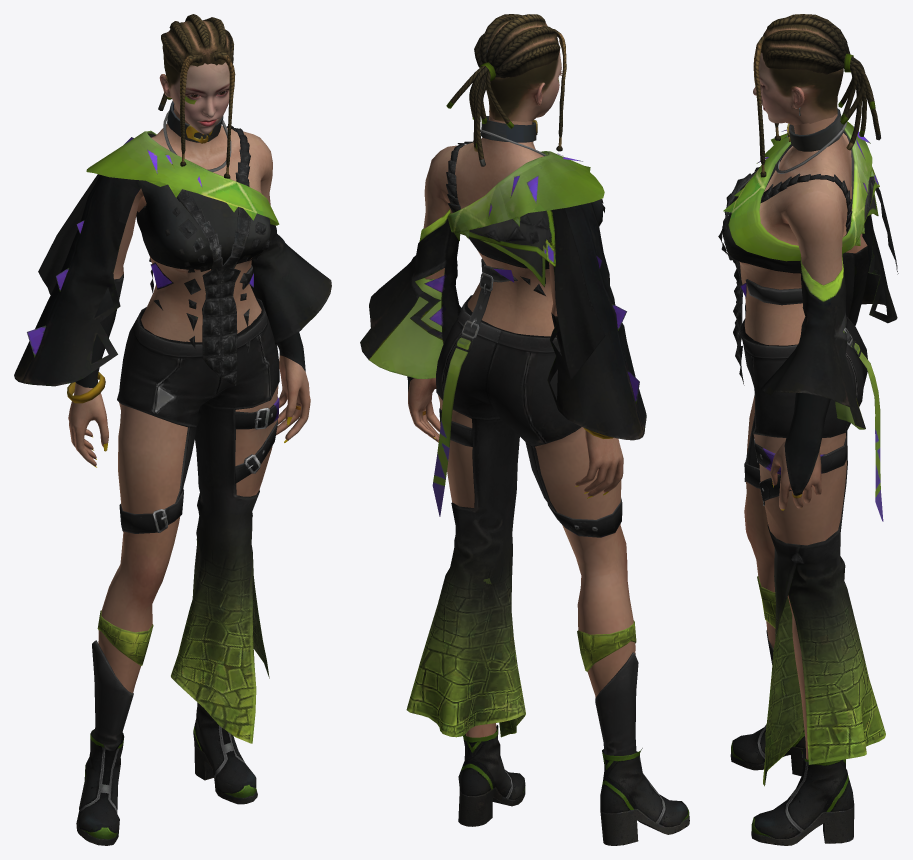
The model's file is freefire_new_female_3d_model_by_pace_gaming.glb.
The picture shows the model from 3 angles, left to right: view 1: azimuth 30°, elevation 25°; view 2: azimuth 150°, elevation 25°; view 3: azimuth 270°, elevation 25°; orthographic projection. The views are drawn at different scales.
Parts seen in each view (by area): view 1: Object_5, Object_4, Object_2, Object_3, Object_6; view 2: Object_5, Object_4, Object_2, Object_3, Object_6; view 3: Object_4, Object_5, Object_2, Object_3, Object_6.
Part boxes in pixels (bbox=[...]): Object_5: bbox=[14, 101, 331, 467]; Object_4: bbox=[92, 297, 279, 750]; Object_2: bbox=[68, 56, 310, 692]; Object_3: bbox=[76, 702, 257, 845]; Object_6: bbox=[158, 14, 235, 178]; Object_5: bbox=[360, 116, 646, 516]; Object_4: bbox=[406, 295, 638, 755]; Object_2: bbox=[408, 50, 635, 737]; Object_3: bbox=[458, 725, 689, 845]; Object_6: bbox=[446, 14, 566, 166]; Object_4: bbox=[740, 315, 885, 786]; Object_5: bbox=[718, 108, 898, 521]; Object_2: bbox=[739, 52, 867, 759]; Object_3: bbox=[730, 724, 854, 845]; Object_6: bbox=[753, 14, 880, 177].
Bounding box in the file's own units: 5.33 × 13.83 × 2.8.
Materials: 5 (5 with a texture image).
